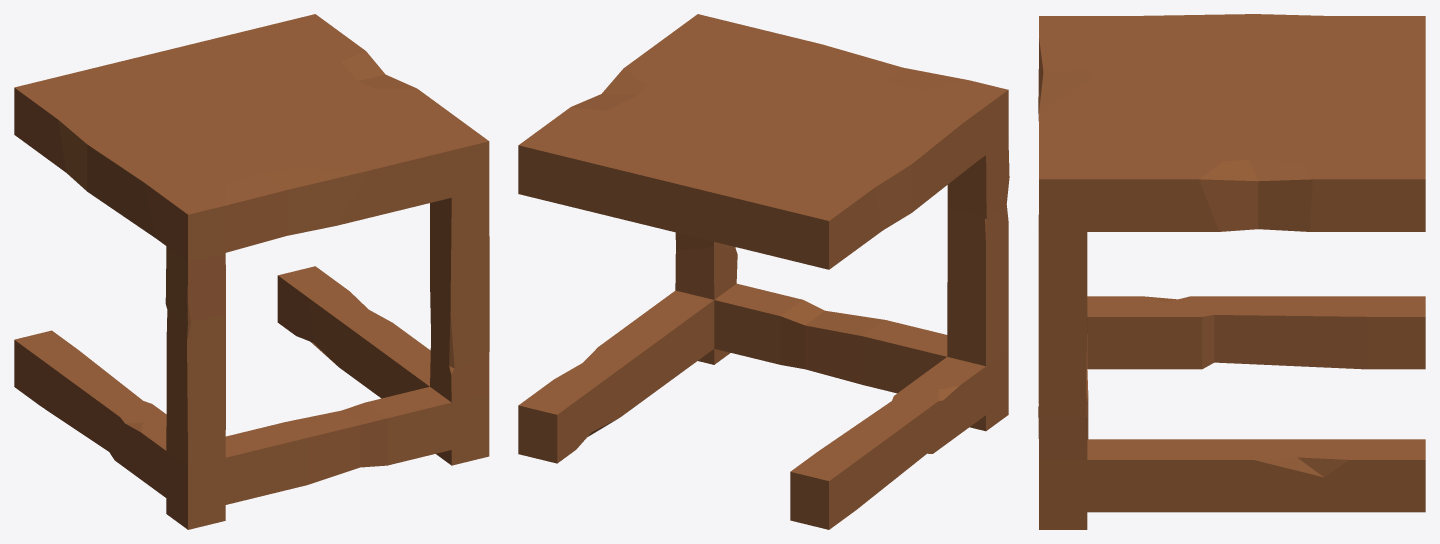
File: Workshop_Counter_Single_End.fbx
3 views of the same model, side by side, from view 1: azimuth 30°, elevation 25°; view 2: azimuth 150°, elevation 25°; view 3: azimuth 270°, elevation 25° (orthographic). The views are drawn at different scales.
Visible parts, largest first — view 1: Cube; view 2: Cube; view 3: Cube.
Boxes of the visible parts, box(x1,y1,x2,y2) form: Cube: box(14, 14, 489, 529); Cube: box(518, 14, 1009, 529); Cube: box(1038, 14, 1425, 529).
Bounding box in the file's own units: 203 × 200 × 200.
